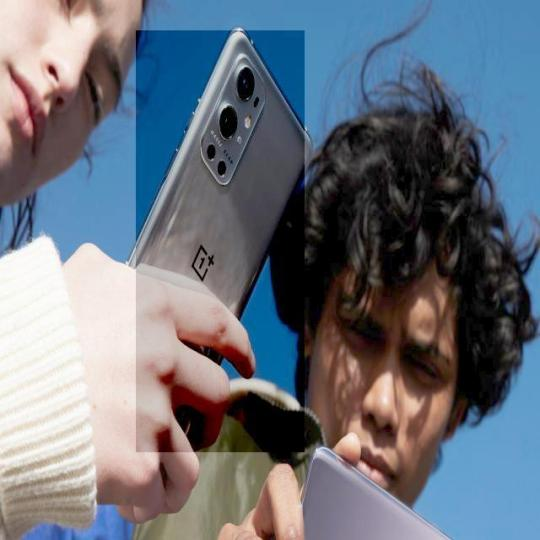phone: (136, 32, 315, 342)
